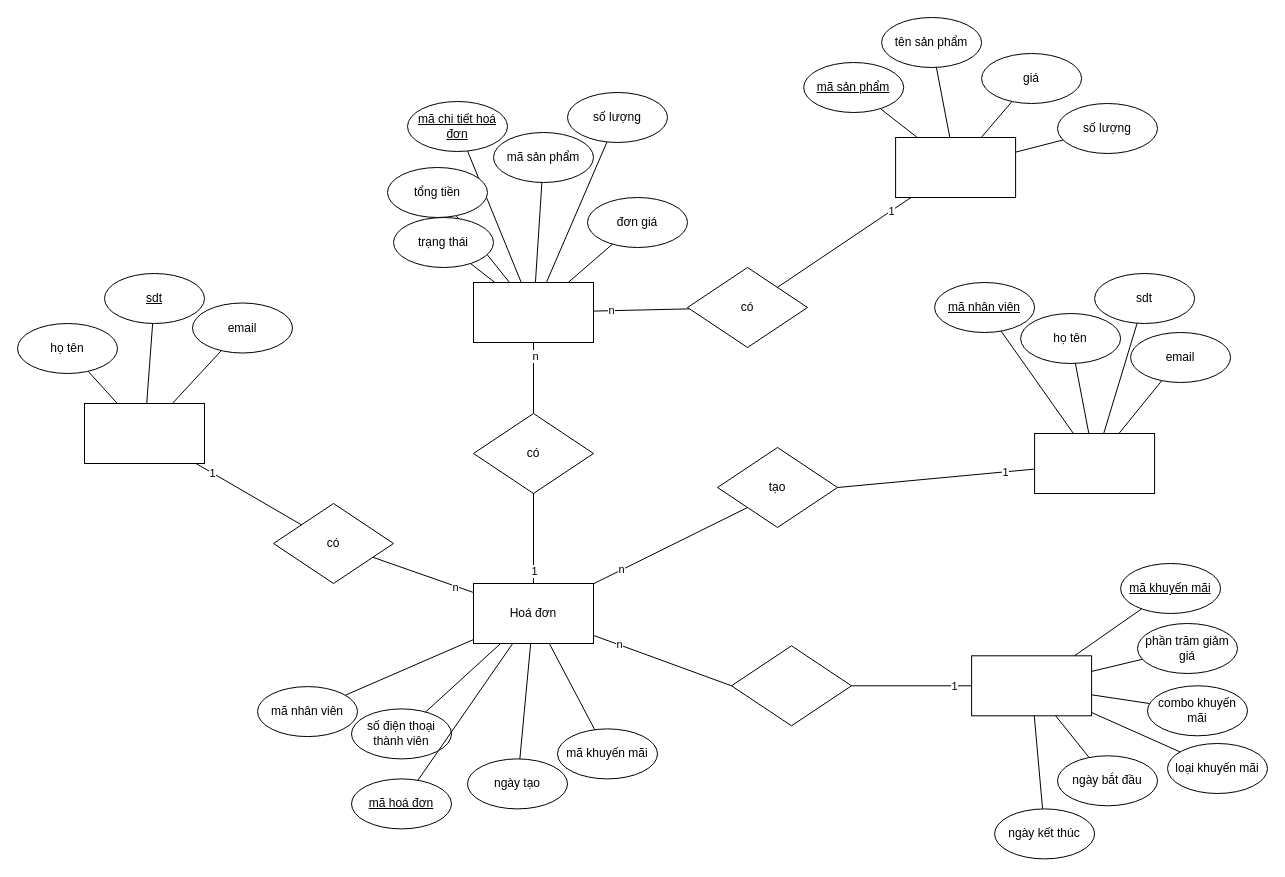
Image size: 1285x877. Some labels were removed from this diagram. The centre of each missing label's shape, as x and y in pixels:
"Chi tiết hoá đơn" goes at (x=533, y=312).
"Khuyến mãi" goes at (x=1031, y=685).
"Nhân viên order" goes at (x=1094, y=463).
"Sản phẩm" goes at (x=955, y=167).
"Thành viên" goes at (x=144, y=433).
"áp dụng" goes at (x=791, y=685).
